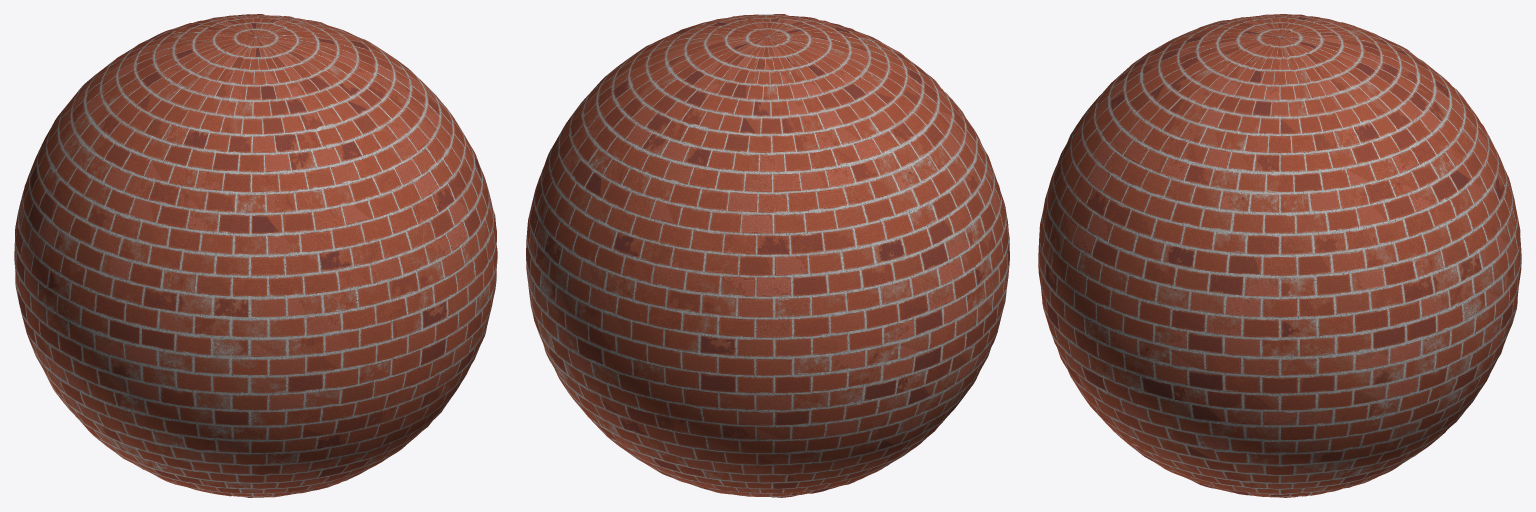
Rendered from MaterialObject.fbx.
3 views of the same model, side by side, from view 1: azimuth 30°, elevation 25°; view 2: azimuth 150°, elevation 25°; view 3: azimuth 270°, elevation 25° (orthographic).
Parts seen in each view (by area): view 1: MaterialObject; view 2: MaterialObject; view 3: MaterialObject.
Boxes of the visible parts, <box> form: MaterialObject: <box>14,14,497,497</box>; MaterialObject: <box>526,14,1009,497</box>; MaterialObject: <box>1038,14,1521,497</box>.
Size of the model in its own units: 9978 by 9989 by 9966.
